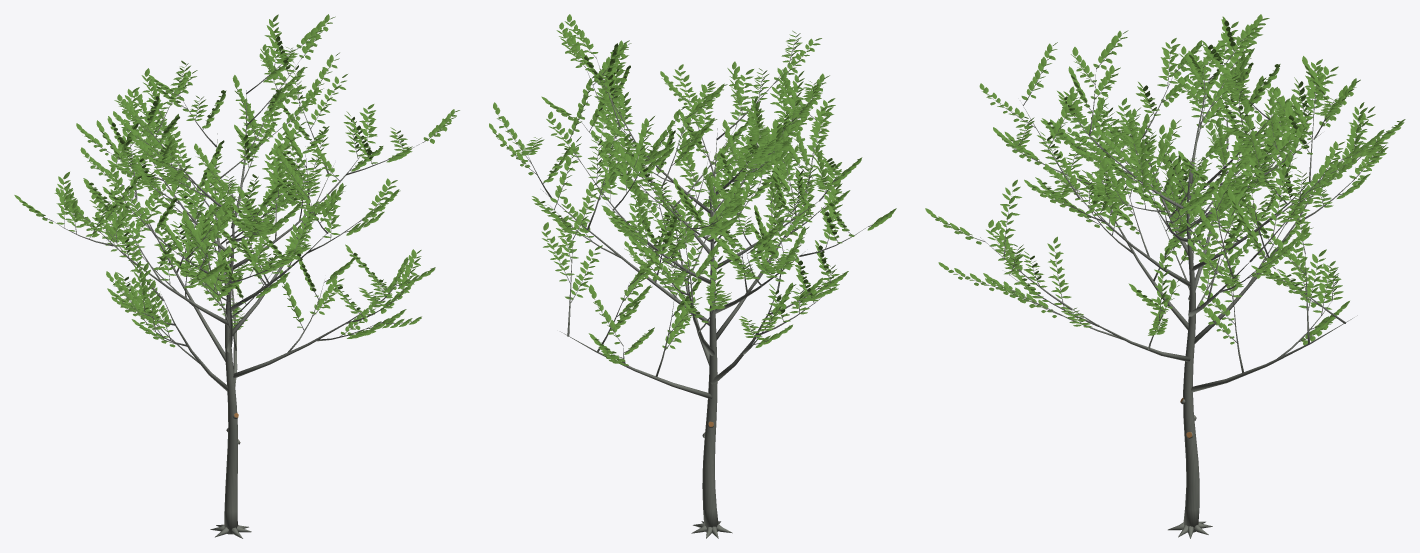
Rendered from Beech_Mature_02_LowPruned_Recent_LOD0.fbx.
The picture shows the model from 3 angles, left to right: view 1: azimuth 30°, elevation 25°; view 2: azimuth 150°, elevation 25°; view 3: azimuth 270°, elevation 25°; orthographic projection. The views are drawn at different scales.
Parts seen in each view (by area): view 1: Beech_Mature_02_LowPruned_Recent_LOD0; view 2: Beech_Mature_02_LowPruned_Recent_LOD0; view 3: Beech_Mature_02_LowPruned_Recent_LOD0.
Part boxes in pixels (x1,y1,x2,y2): Beech_Mature_02_LowPruned_Recent_LOD0: (14,14,459,538); Beech_Mature_02_LowPruned_Recent_LOD0: (489,14,896,538); Beech_Mature_02_LowPruned_Recent_LOD0: (925,14,1405,538).
Size of the model in its own units: 1936 by 2301 by 1926.
3 materials, 2 textured.
